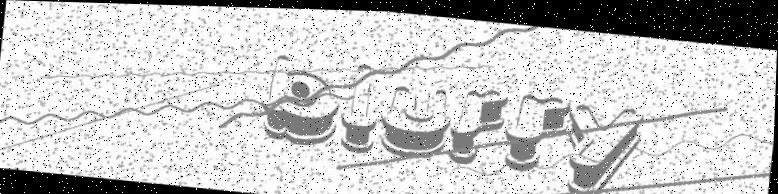b: (263, 49, 345, 147)
l: (337, 59, 383, 152)
r: (446, 82, 511, 168), (506, 87, 570, 173)
u: (375, 78, 454, 157)
y: (559, 94, 647, 194)
